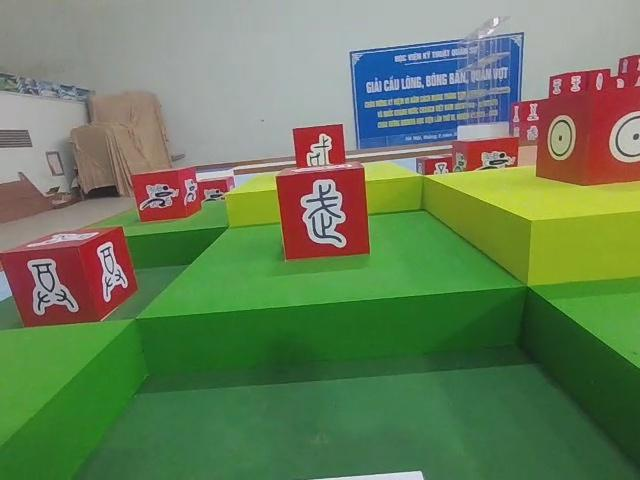R1: (128, 165, 202, 224)
R2 Fake: (275, 158, 372, 264)
R2 Real: (0, 225, 140, 329), (532, 92, 640, 187), (291, 121, 347, 174)
